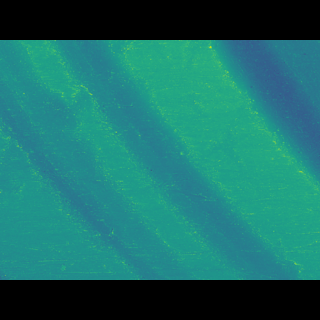Loch: (0, 69, 298, 249), (206, 70, 320, 185)
